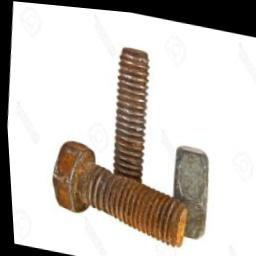Corroded-Bolt: (49, 139, 185, 245), (110, 44, 148, 181)
Non-corroded Nut: (170, 141, 207, 237)
